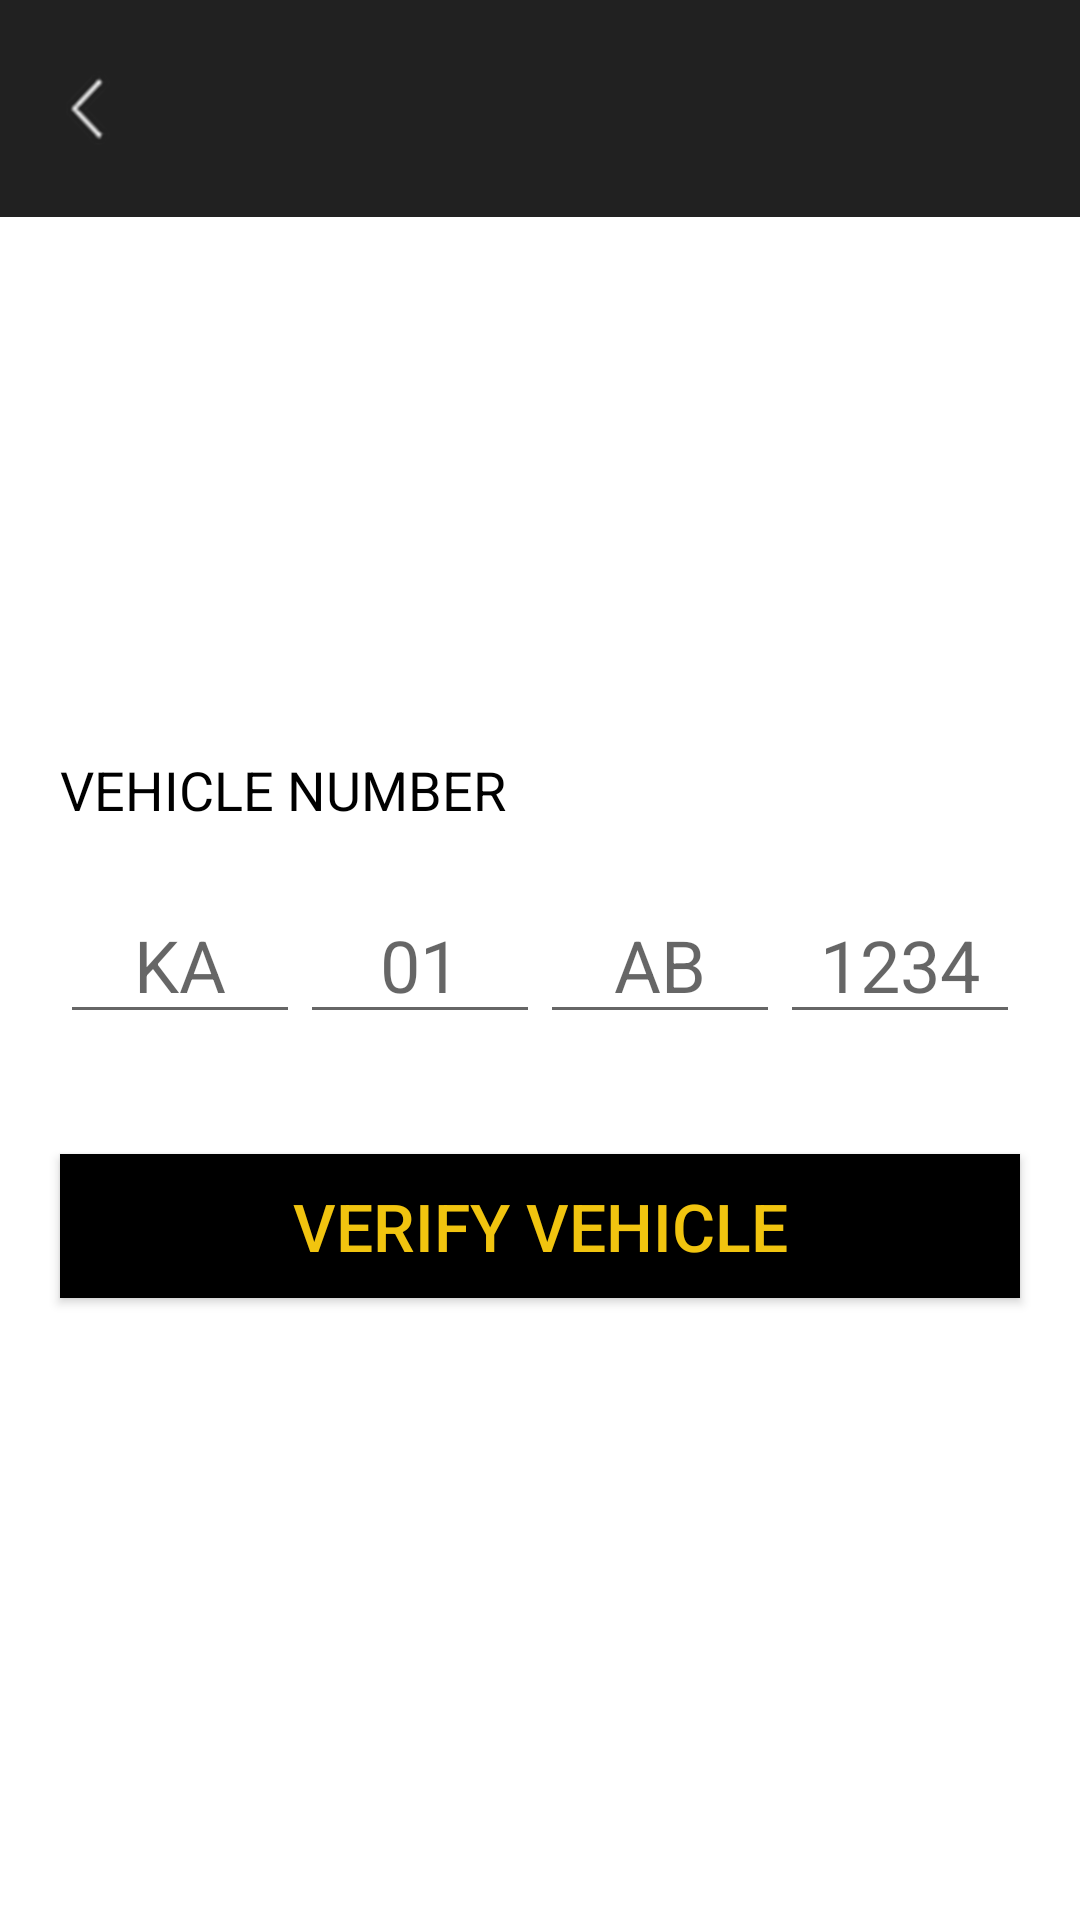

Icons on this 1080px×1920px Android screen, each with the point to tap as (x=x, y=y):
Back button to navigate previous activity: (x=87, y=108)
